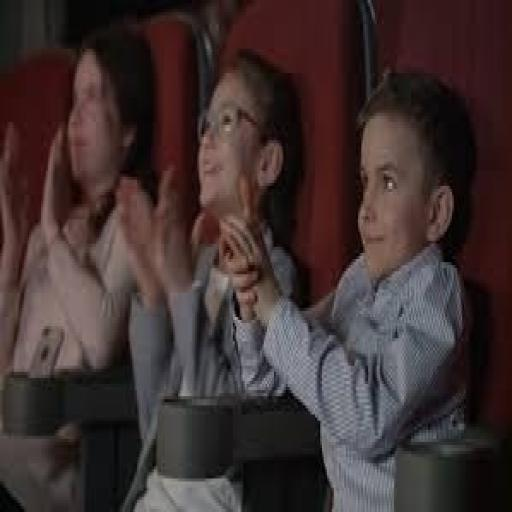clapping: (216, 64, 478, 509), (118, 46, 305, 509)
